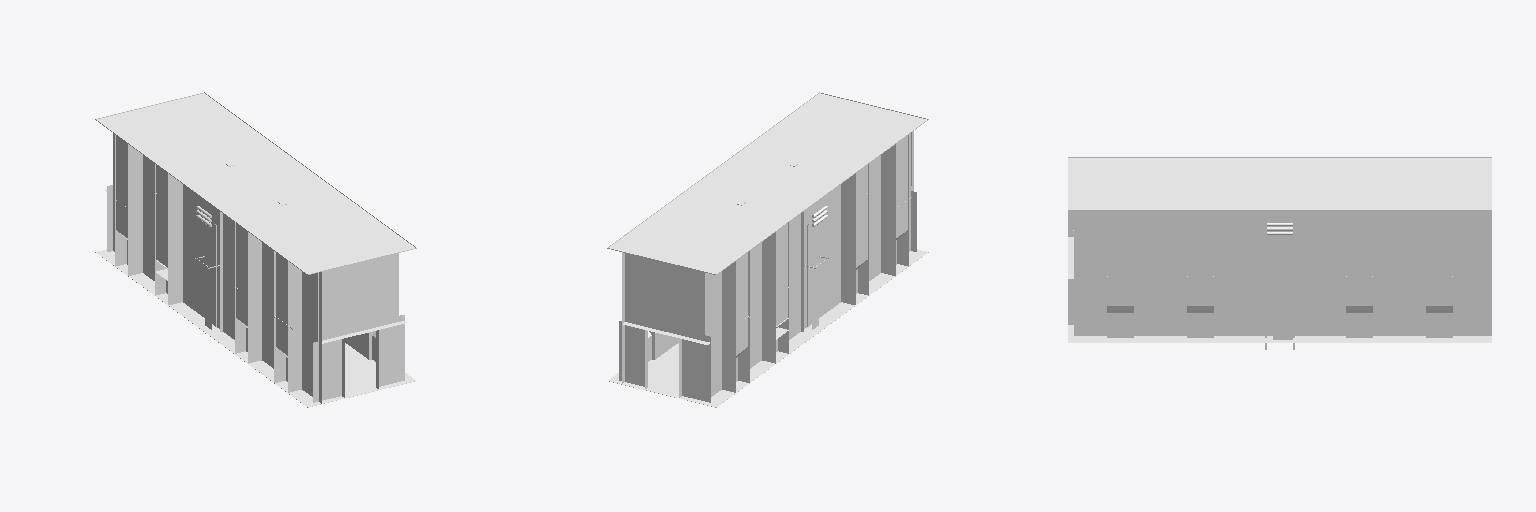
Rendered from LC_room2_tesla.obj.
3 renders of one model, left to right at view 1: azimuth 30°, elevation 25°; view 2: azimuth 150°, elevation 25°; view 3: azimuth 270°, elevation 25°, orthographic.
Visible parts, largest first — view 1: room2tesla_lcz; view 2: room2tesla_lcz; view 3: room2tesla_lcz.
Boxes of the visible parts, box(x1,y1,x2,y2) form: room2tesla_lcz: box(95, 92, 416, 407); room2tesla_lcz: box(607, 92, 928, 407); room2tesla_lcz: box(1068, 157, 1491, 349).
Bounding box in the file's own units: 6.08 × 7.72 × 20.48.